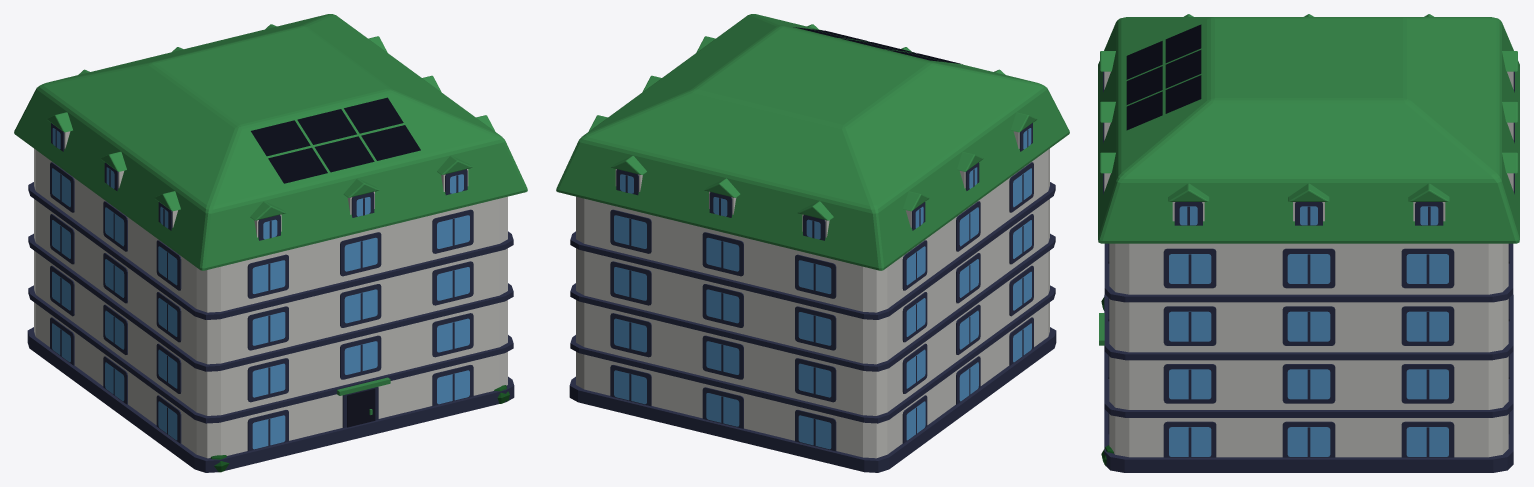
The model's file is house-2x2-4f-mansard-a-solar.glb.
3 renders of one model, left to right at view 1: azimuth 30°, elevation 25°; view 2: azimuth 150°, elevation 25°; view 3: azimuth 270°, elevation 25°, orthographic. The views are drawn at different scales.
Parts seen in each view (by area): view 1: house-2x2-4f-mansard-a-solar; view 2: house-2x2-4f-mansard-a-solar; view 3: house-2x2-4f-mansard-a-solar.
Part boxes in pixels (<box>): house-2x2-4f-mansard-a-solar: <box>14,14,527,472</box>; house-2x2-4f-mansard-a-solar: <box>556,14,1069,472</box>; house-2x2-4f-mansard-a-solar: <box>1098,14,1519,472</box>.
Size of the model in its own units: 1.99 by 1.71 by 1.99.
1 material, 1 textured.
